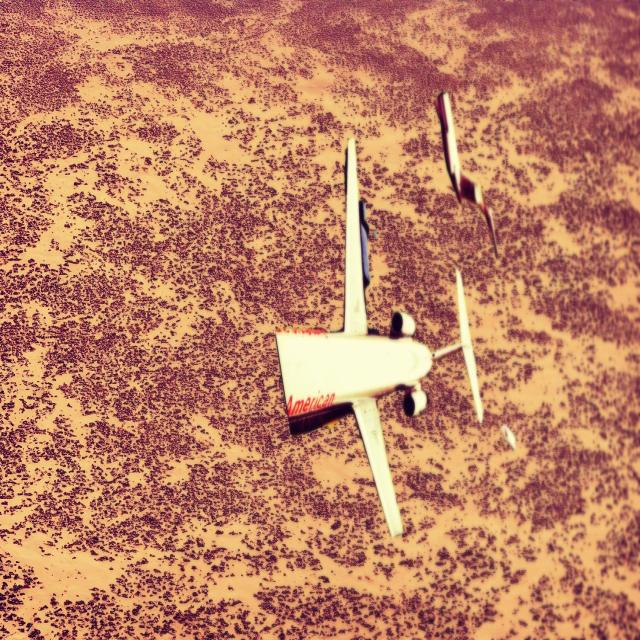airplane: (274, 135, 484, 538), (434, 91, 498, 257)
